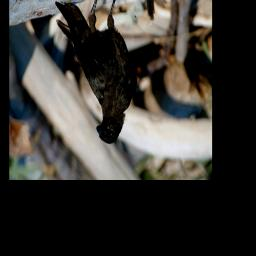Crow: (54, 0, 138, 146)
